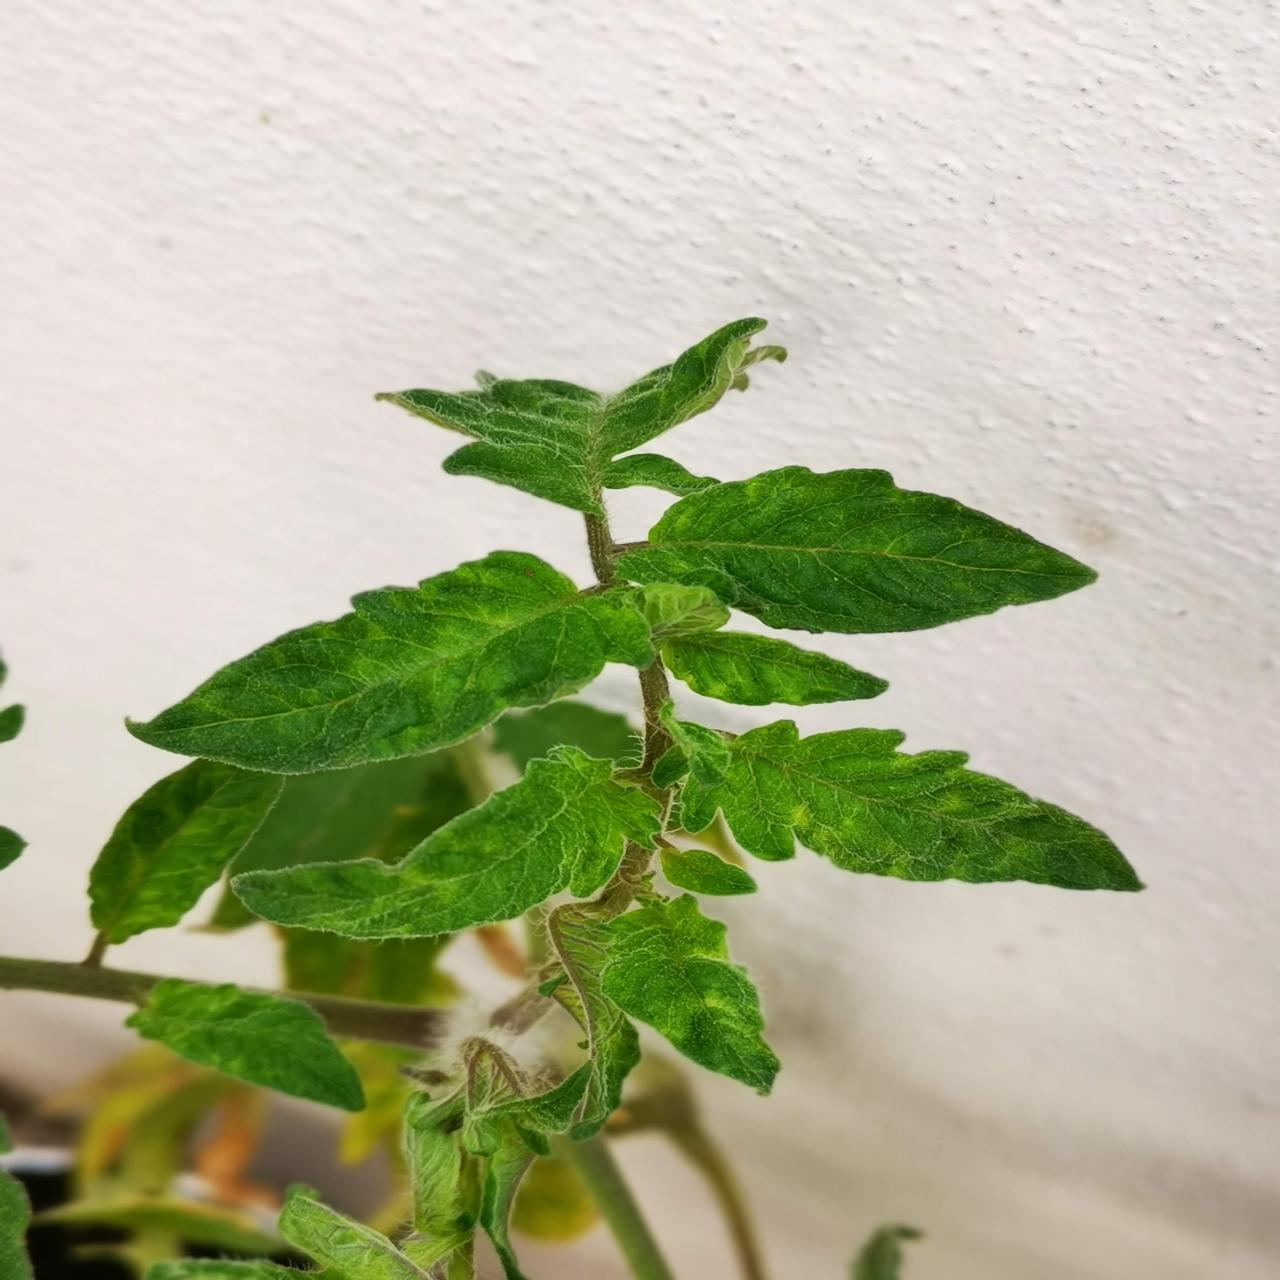T_L_R: (121, 552, 656, 776), (652, 699, 1148, 892), (375, 316, 788, 523), (229, 747, 663, 940), (612, 467, 1099, 635), (91, 761, 284, 964), (600, 893, 783, 1098), (663, 632, 888, 707), (660, 847, 760, 896)
